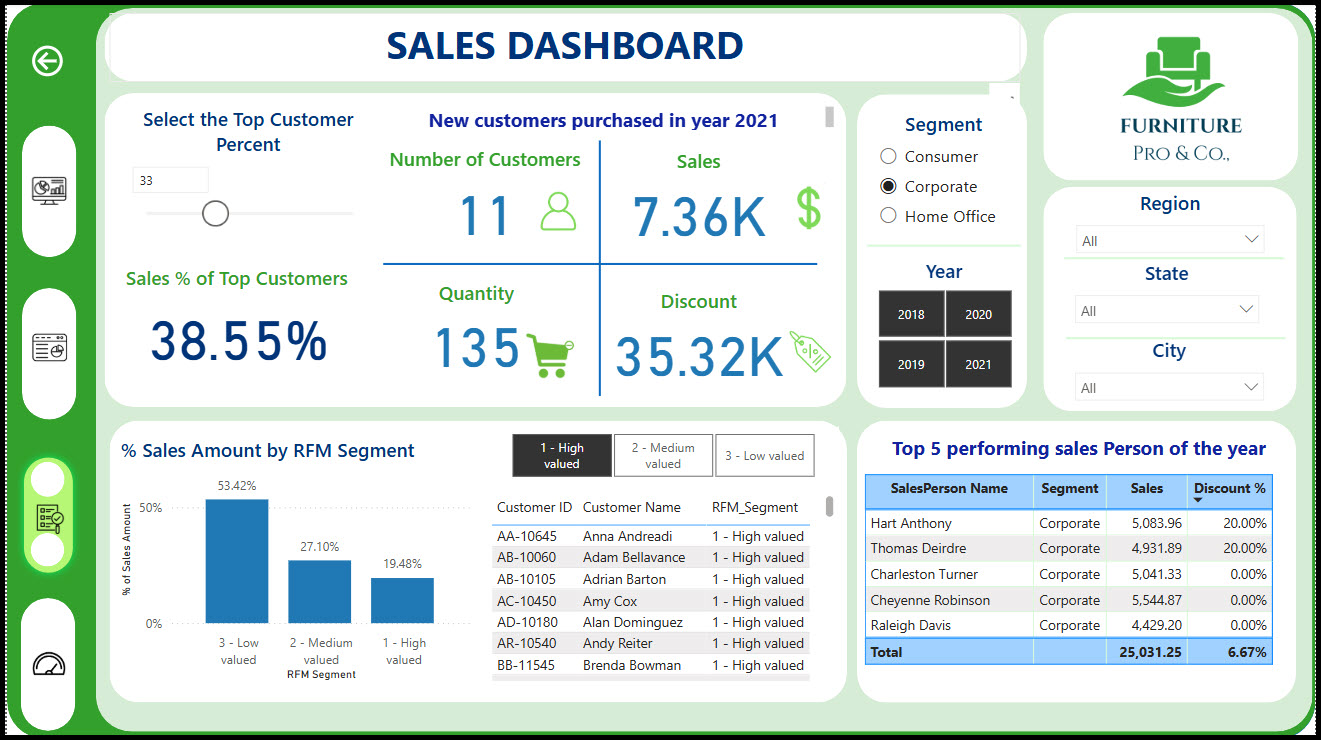

This screenshot's page, from the dashboard's own definition file:
{"tool":"powerbi","page":{"name":"3. RFM Analysis","canvas":[1280,720],"ordinal":2},"visuals":[{"type":"shape","box":[9.8,0,1270.5,720.2],"z":0},{"type":"shape","box":[0,0,1280.2,719.8],"z":1000},{"type":"shape","box":[86.7,5,1190,708.3],"z":2000},{"type":"shape","box":[15,120,53.3,129.2],"z":3000},{"type":"shape","box":[15,279.2,53.3,129.2],"z":4000},{"type":"shape","box":[9,436,64,129],"z":5000},{"type":"shape","box":[95.7,88.6,725.7,307.1],"z":6000},{"type":"shape","box":[1014.1,9.9,249.5,163.8],"z":15000},{"type":"shape","box":[95.6,9.9,902.4,67],"z":16000},{"type":"image","box":[1045.2,0,191.2,178.7],"z":17000},{"type":"textbox","box":[100.5,9.9,891.2,67],"z":18000},{"type":"card","title":"Sales % of Top Customers","fields":{"Values":["Customer Sales 3.Sales % of Top X Customers 3"]},"box":[111.4,255.7,231.4,110],"z":19000},{"type":"slicer","title":"Select the Top Customer Percent","fields":{"Values":["TopCustomerPercent.TopCustomerPercent"]},"box":[110,100,251.7,143.3],"z":20000},{"type":"shape","box":[100,408.6,721.4,275.7],"z":21000},{"type":"columnChart","title":"% Sales Amount by RFM Segment","fields":{"Category":["Orders.RFM_Segment"],"Y":["Divide(Sum(Orders.Sales Amount), ScopedEval(Sum(Orders.Sales Amount), []))"]},"box":[106.1,424.6,352.1,243.4],"z":22000},{"type":"slicer","fields":{"Values":["Orders.RFM_Segment"]},"box":[468.6,414.2,345.6,55.7],"z":23000},{"type":"tableEx","fields":{"Values":["Orders.Customer ID","Orders.Customer Name","Orders.RFM_Segment"]},"box":[468.6,476.4,345.6,191.6],"z":24000},{"type":"shape","box":[831.2,408.8,430,276.2],"z":25000},{"type":"card","title":"Number of Customers","fields":{"Values":["Measures tables.New Customers Count"]},"box":[358.3,140,218.3,98.3],"z":26000},{"type":"tableEx","fields":{"Values":["Orders.SalesPerson Name","Orders.Segment","Measures tables.Tot Sales","Measures tables.Avg Discount %"]},"box":[833.3,456.7,427.8,211.1],"z":27000},{"type":"image","box":[10,158.3,63.3,52.5],"z":28000},{"type":"image","box":[14.2,310.8,54.2,53.3],"z":29000},{"type":"card","title":"Discount","fields":{"Values":["Measures tables.New Customers Discounts"]},"box":[576.4,278.6,201.4,95.7],"z":30000},{"type":"card","title":"Quantity","fields":{"Values":["Measures tables.New Customers Quantity"]},"box":[358.3,270,201.7,95],"z":31000},{"type":"shape","box":[368.2,242.7,424.5,26.4],"z":32000},{"type":"card","title":"Sales","fields":{"Values":["Measures tables.New Customers Sales"]},"box":[576.4,141.4,201.4,96.4],"z":33000},{"type":"shape","box":[564.5,134.5,30,250],"z":34000},{"type":"image","box":[513.6,179.1,50.9,50],"z":35000},{"type":"image","box":[754.5,153.6,60,93.6],"z":36000},{"type":"image","box":[497.3,310.9,67.3,69.1],"z":37000},{"type":"image","box":[757.3,313.6,57.3,55.5],"z":38000},{"type":"actionButton","box":[5,278.3,80,130],"z":39000},{"type":"actionButton","box":[14.3,452.9,52.9,110],"z":40000},{"type":"actionButton","box":[0,119.2,80,130],"z":41000},{"type":"image","box":[20,485,45,39],"z":42000},{"type":"shape","box":[831.7,89.2,166.7,307.5],"z":43000},{"type":"actionButton","box":[20,37.1,60,40],"z":44000},{"type":"slicer","title":"Segment","fields":{"Values":["Orders.Segment"]},"box":[841.7,105,150,133.3],"z":45000},{"type":"textbox","box":[861,417,389,35],"z":46000},{"type":"textbox","box":[361.2,97.1,453.1,32.4],"z":47000},{"type":"slicer","title":"Year","fields":{"Values":["Date.Date.Variation.Date Hierarchy.Year"]},"box":[826.7,250,180,133.3],"z":48000},{"type":"shape","box":[1014.2,179.2,248.3,220],"z":49000},{"type":"slicer","title":"Region","fields":{"Values":["Orders.Region"]},"box":[1035.8,181.7,204.2,75],"z":50000},{"type":"slicer","title":"State","fields":{"Values":["Orders.State"]},"box":[1035,250.8,200,70],"z":51000},{"type":"slicer","title":"City","fields":{"Values":["Orders.City"]},"box":[1035,326.7,205,66.7],"z":52000},{"type":"shape","box":[841.7,226.7,150,22.5],"z":53000},{"type":"shape","box":[1035,239.2,215,20],"z":54000},{"type":"shape","box":[1035.8,317.5,215,20],"z":55000},{"type":"shape","box":[22.9,518.6,32.9,32.9],"z":56000},{"type":"shape","box":[23.7,449,33.3,34.7],"z":57000},{"type":"shape","box":[13.3,582.5,53.3,130],"z":58000},{"type":"image","box":[15.8,619.2,50.8,56.7],"z":59000},{"type":"actionButton","box":[12.7,582.7,52.7,130],"z":60000}]}

Visuals, with their boxes in screenshot pixels (x1, y1, x2, y2), scaled from the page's 1280x720 canvas onto the 1321x740 screenshot:
shape: 10:0:1320:739
shape: 0:0:1320:739
shape: 89:5:1318:733
shape: 15:123:70:256
shape: 15:287:70:420
shape: 9:448:75:581
shape: 99:91:848:407
shape: 1047:10:1304:179
shape: 99:10:1030:79
image: 1079:0:1276:184
textbox: 104:10:1023:79
"Sales % of Top Customers" card: 115:263:354:376
"Select the Top Customer Percent" slicer: 114:103:373:250
shape: 103:420:848:703
"% Sales Amount by RFM Segment" columnChart: 109:436:473:687
slicer - Orders.RFM_Segment: 484:426:840:483
tableEx - Orders.Customer ID x Orders.Customer Name: 484:490:840:687
shape: 858:420:1302:704
"Number of Customers" card: 370:144:595:245
tableEx - Orders.SalesPerson Name x Orders.Segment: 860:469:1301:686
image: 10:163:76:217
image: 15:319:71:374
"Discount" card: 595:286:803:385
"Quantity" card: 370:278:578:375
shape: 380:249:818:277
"Sales" card: 595:145:803:244
shape: 583:138:614:395
image: 530:184:583:235
image: 779:158:841:254
image: 513:320:583:391
image: 782:322:841:379
actionButton: 5:286:88:420
actionButton: 15:465:69:579
actionButton: 0:123:83:256
image: 21:498:67:539
shape: 858:92:1030:408
actionButton: 21:38:83:79
"Segment" slicer: 869:108:1023:245
textbox: 889:429:1290:465
textbox: 373:100:840:133
"Year" slicer: 853:257:1039:394
shape: 1047:184:1303:410
"Region" slicer: 1069:187:1280:264
"State" slicer: 1068:258:1275:330
"City" slicer: 1068:336:1280:404
shape: 869:233:1023:256
shape: 1068:246:1290:266
shape: 1069:326:1291:347
shape: 24:533:58:567
shape: 24:461:59:497
shape: 14:599:69:732
image: 16:636:69:695
actionButton: 13:599:67:732
